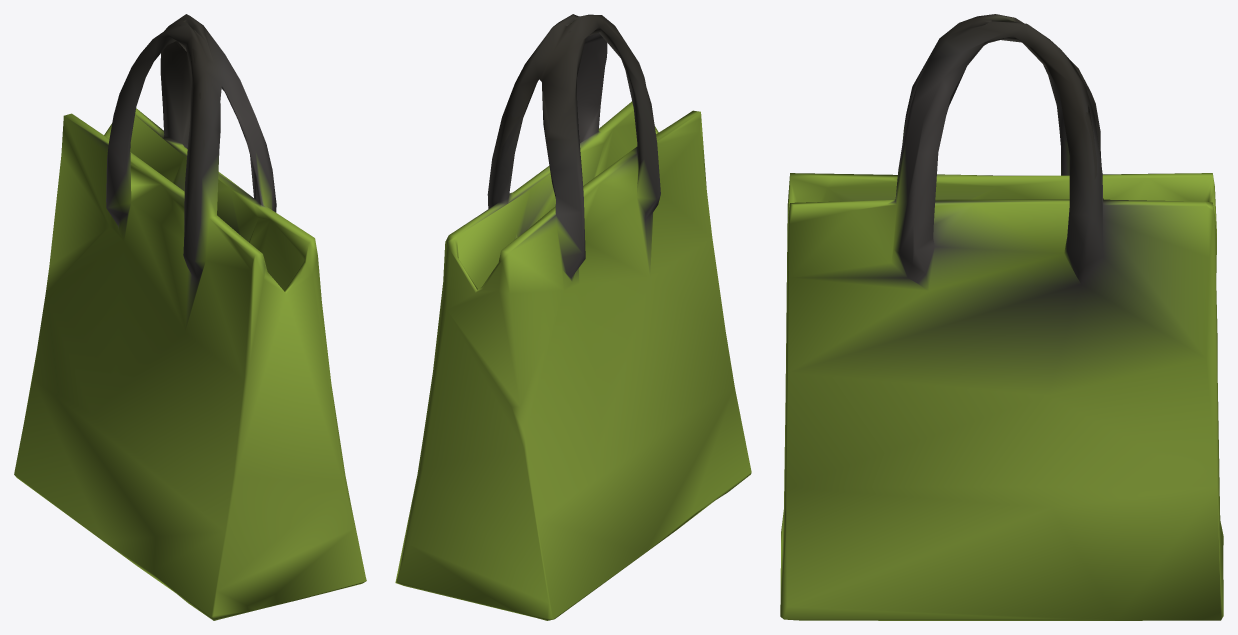
Rendered from gen3d-shopping-bag-lod1.glb.
3 renders of one model, left to right at view 1: azimuth 30°, elevation 25°; view 2: azimuth 150°, elevation 25°; view 3: azimuth 270°, elevation 25°, orthographic. The views are drawn at different scales.
Parts seen in each view (by area): view 1: part_0; view 2: part_0; view 3: part_0.
Part boxes in pixels (bbox=[...]): part_0: bbox=[14, 14, 366, 620]; part_0: bbox=[395, 14, 751, 620]; part_0: bbox=[780, 14, 1223, 620].
Size of the model in its own units: 0.3236 by 0.9991 by 0.7106.
